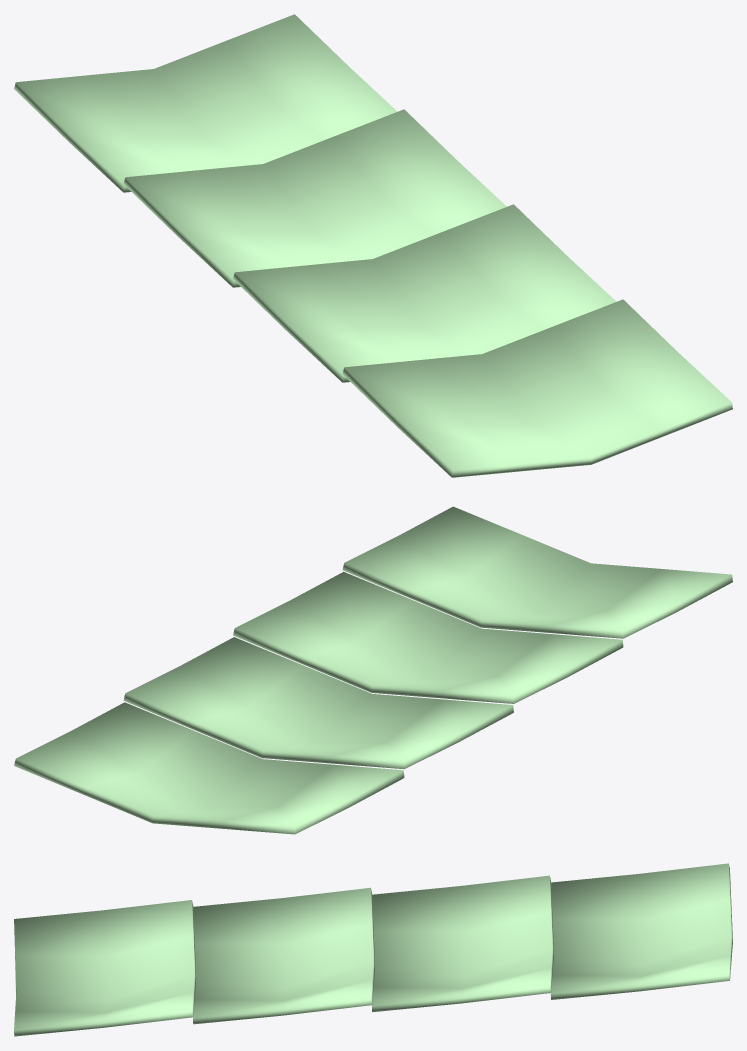
3 renders of one model, top to bottom at view 1: azimuth 30°, elevation 25°; view 2: azimuth 150°, elevation 25°; view 3: azimuth 270°, elevation 25°, orthographic. The views are drawn at different scales.
Parts seen in each view (by area): view 1: Plane; view 2: Plane; view 3: Plane.
Part boxes in pixels (<box>): Plane: <box>14,14,732,477</box>; Plane: <box>14,506,732,834</box>; Plane: <box>14,863,732,1036</box>.
Bounding box in the file's own units: 1802 × 664 × 241.
